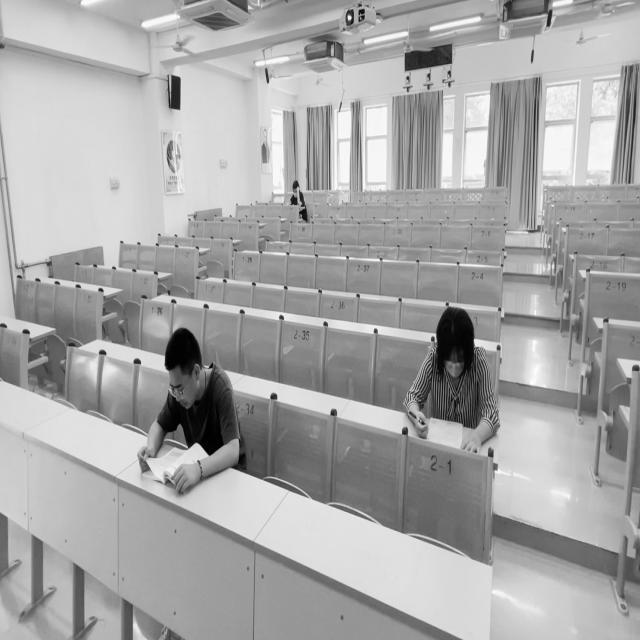study: (138, 332, 239, 490), (403, 311, 500, 452), (291, 181, 304, 206)
